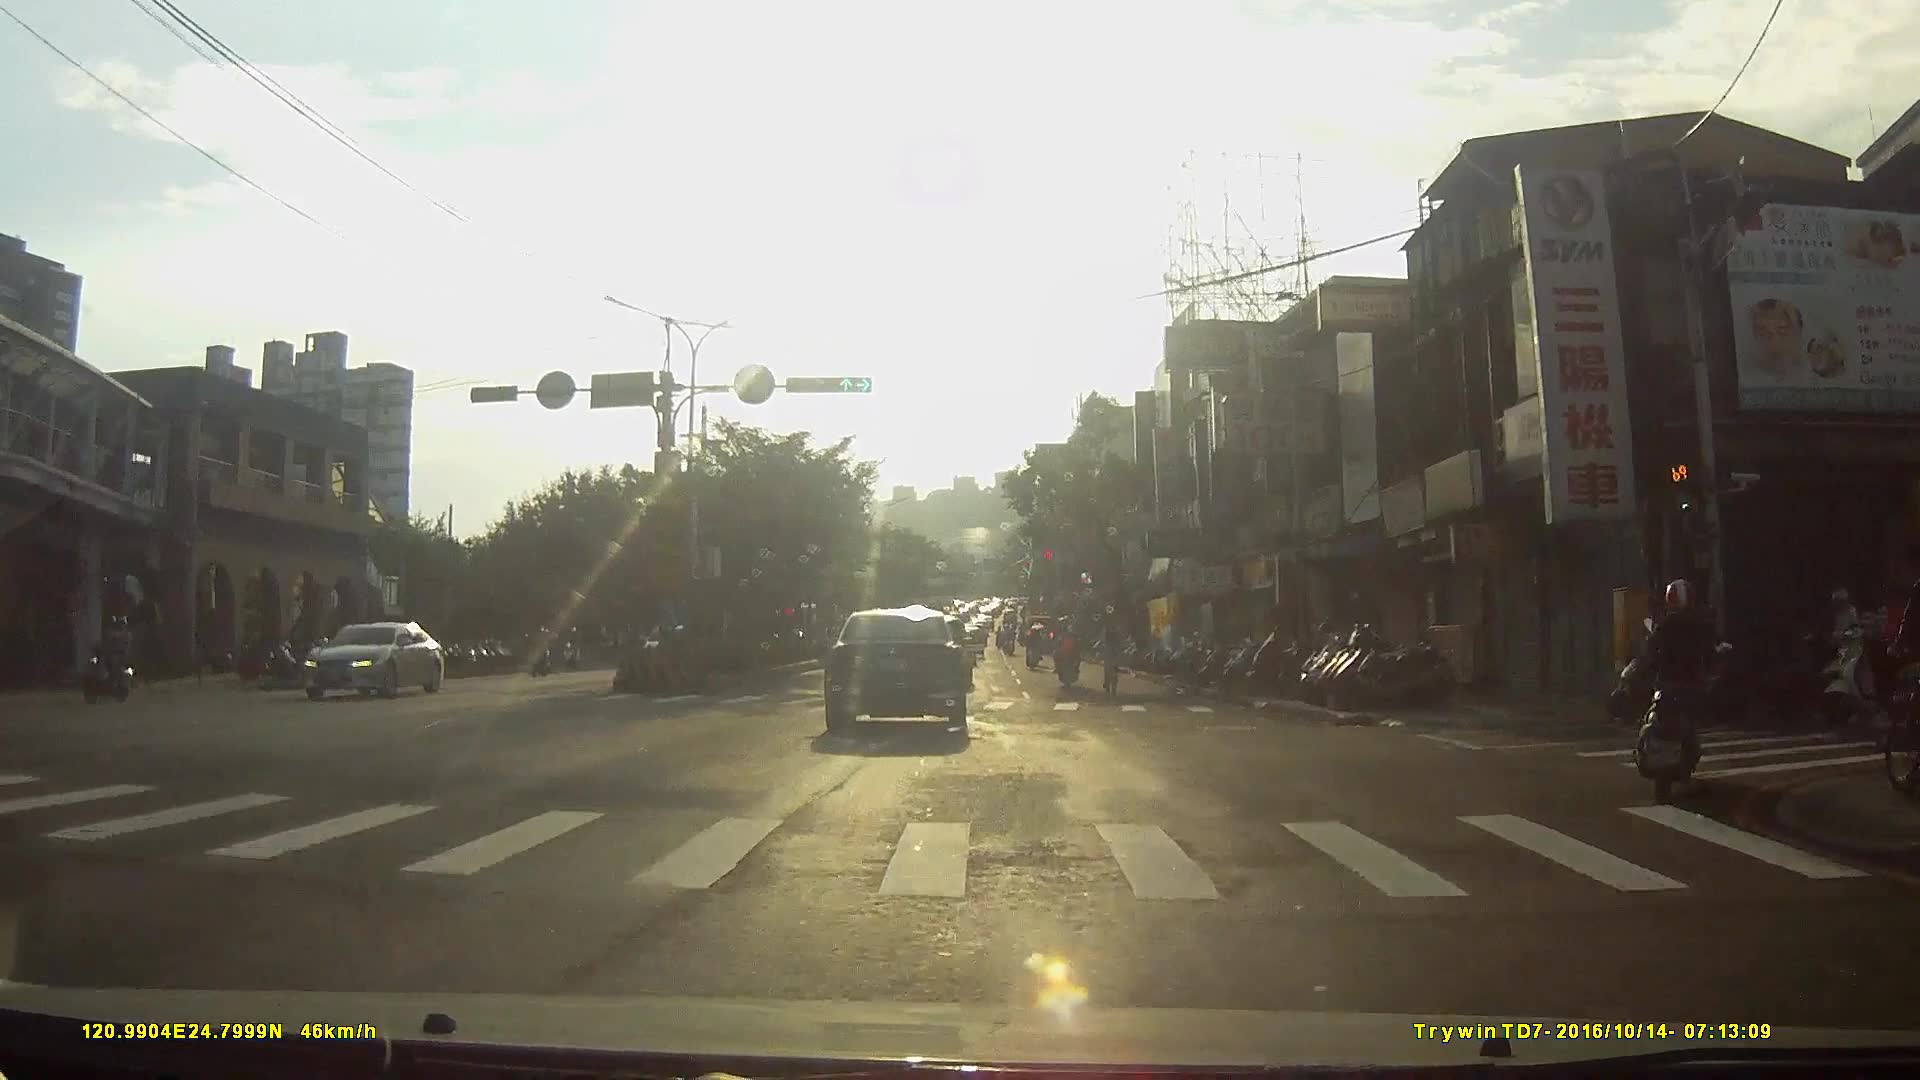rider: (1635, 578, 1737, 804), (1882, 553, 1920, 798), (86, 613, 137, 699), (1099, 611, 1123, 698), (1054, 623, 1082, 691), (1023, 626, 1046, 673)
vehicle: (824, 608, 984, 748), (301, 617, 448, 708)
